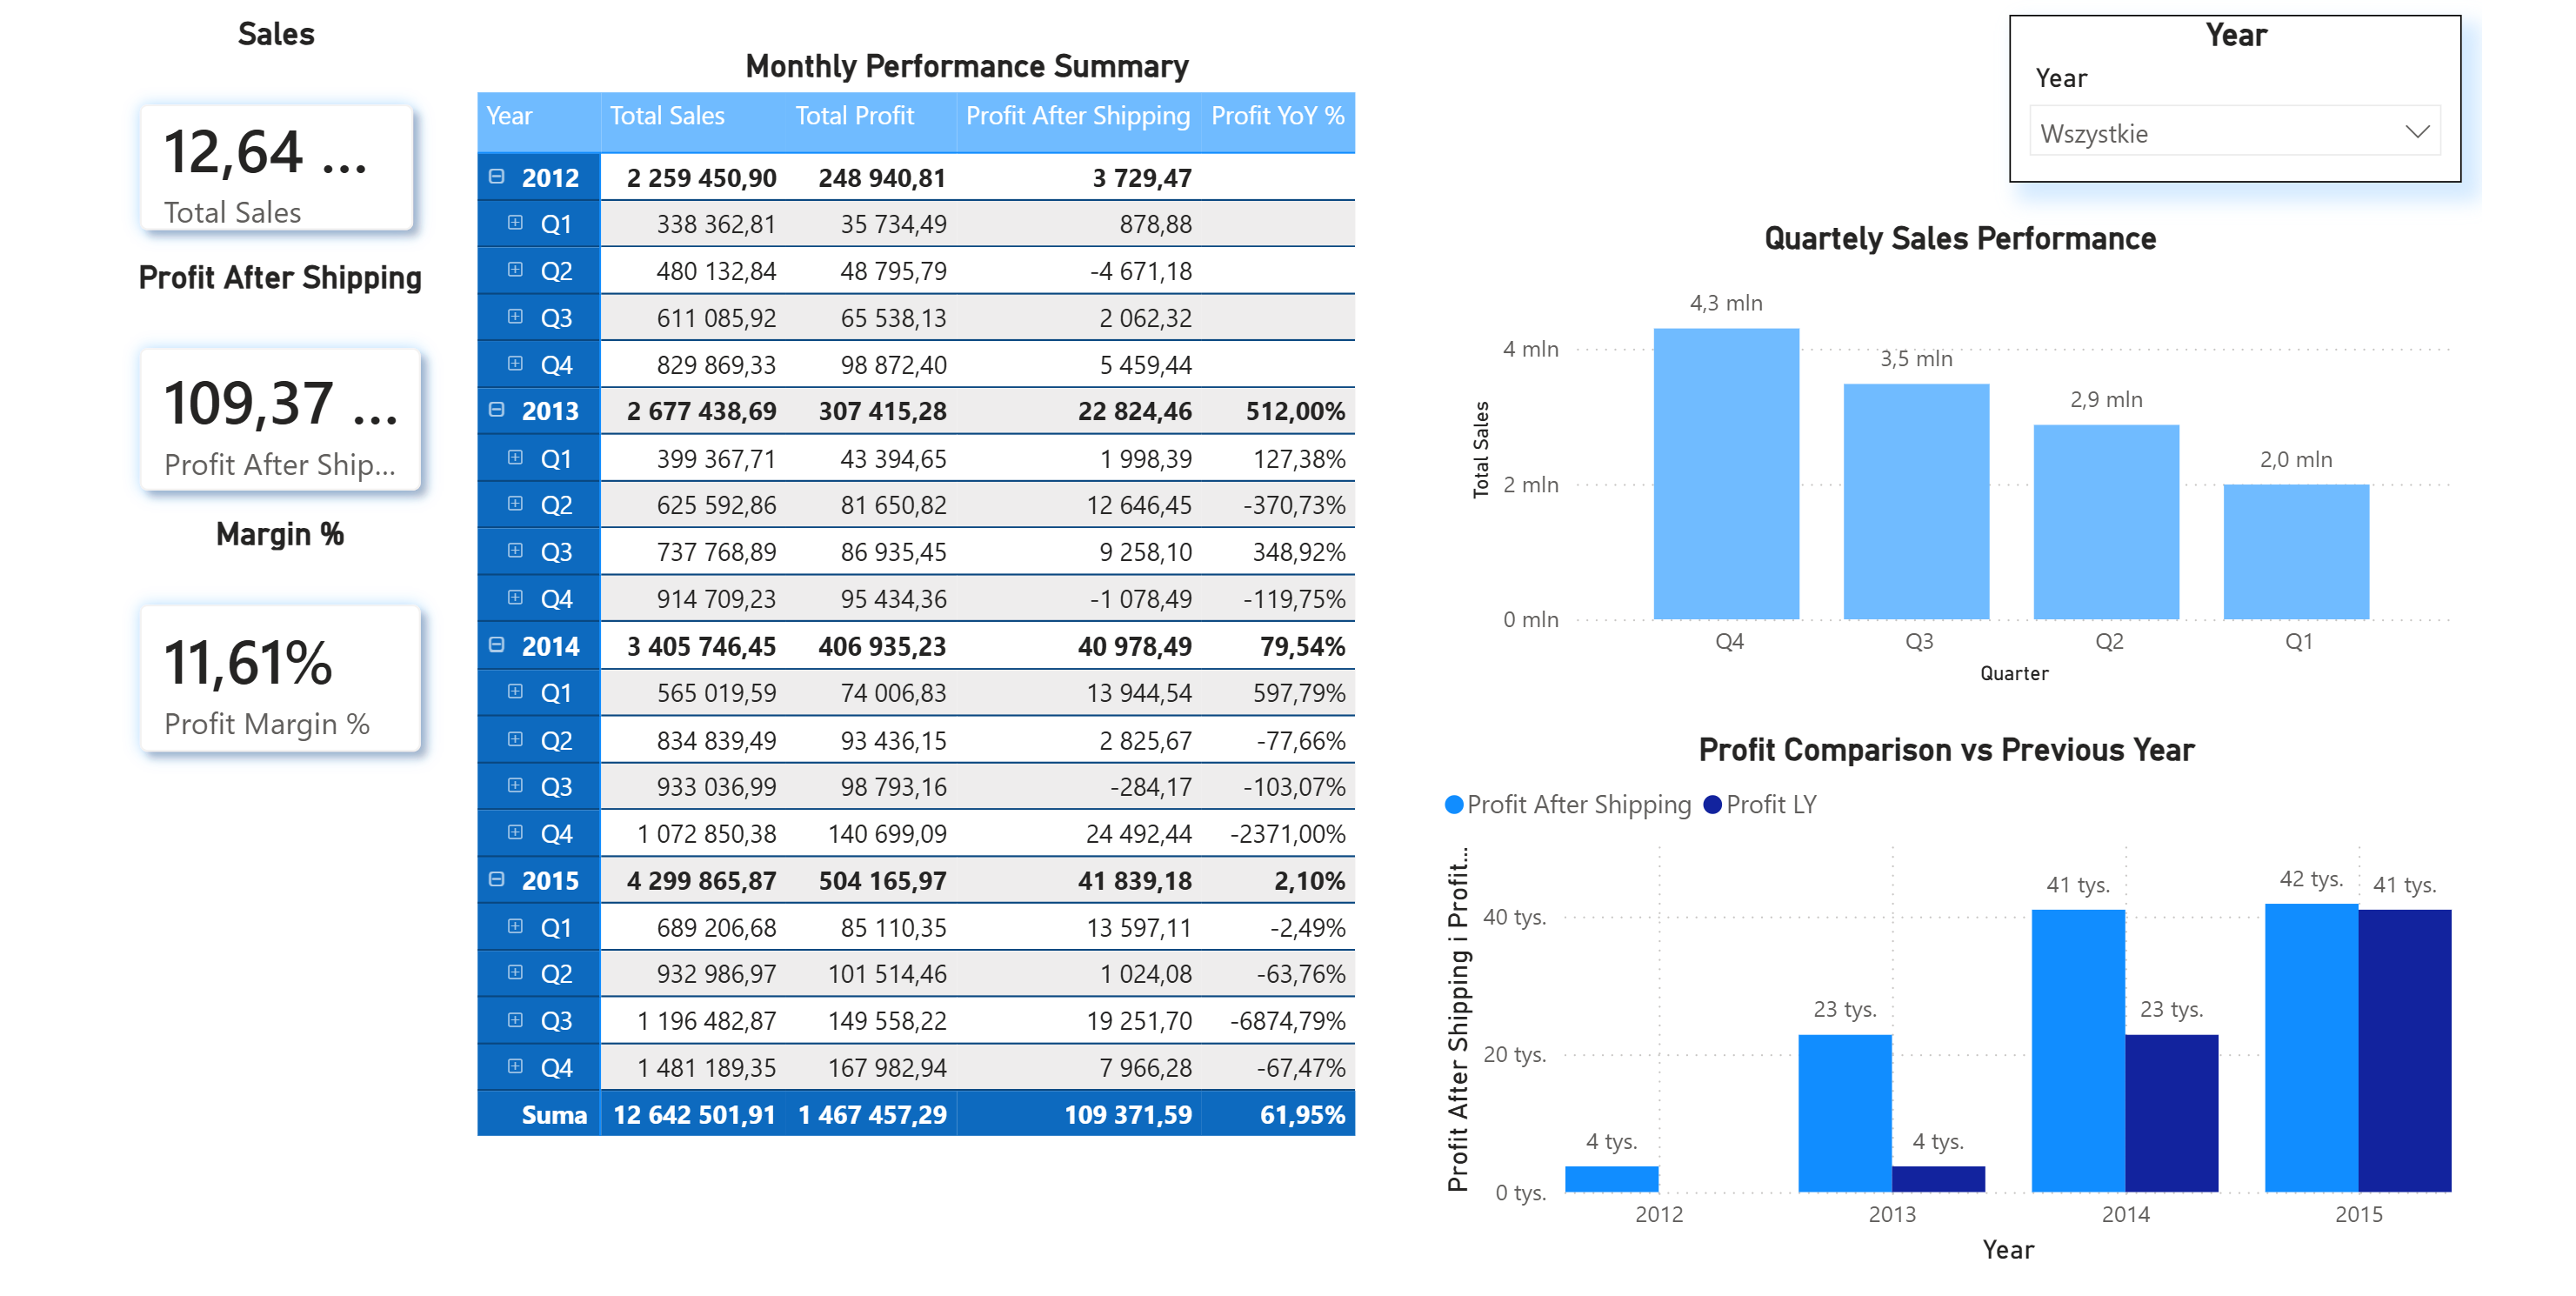

The page's visual inventory and layout, read from the dashboard file:
{"tool":"powerbi","page":{"name":"Monthly Analysis","canvas":[1280,720],"ordinal":1},"visuals":[{"type":"pivotTable","title":"Monthly Performance Summary","fields":{"Rows":["DimDate.Year","DimDate.Quarter","DimDate.Month Name"],"Values":["Measures (2).Total Sales","Measures (2).Total Profit","Measures (2).Profit After Shipping","Measures (2).Profit YoY %"]},"box":[204.5,31.6,533.8,688.9],"z":0},{"type":"clusteredColumnChart","title":"Quartely Sales Performance","fields":{"Category":["DimDate.Quarter"],"Y":["Measures (2).Total Sales"]},"box":[735.5,123.5,533.8,252.5],"z":1000},{"type":"clusteredColumnChart","title":"Profit Comparison vs Previous Year","fields":{"Category":["DimDate.Year"],"Y":["Measures (2).Profit After Shipping","Measures (2).Profit LY"]},"box":[720.4,396.6,548.9,289.5],"z":2000},{"type":"slicer","title":"Year","fields":{"Values":["DimDate.Year"]},"box":[1027.8,13.8,241.4,89.7],"z":3000},{"type":"cardVisual","title":"Sales","fields":{"Data":["Measures (2).Total Sales"]},"box":[0,13.7,204.5,144.1],"z":3001},{"type":"cardVisual","title":"Profit After Shipping","fields":{"Data":["Measures (2).Profit After Shipping"]},"box":[0,144.1,208.6,153.7],"z":3002},{"type":"cardVisual","title":"Margin %","fields":{"Data":["Measures (2).Profit Margin %"]},"box":[0,281.3,208.6,155.1],"z":3003}]}

Visuals, with their boxes on the page's 1280x720 design canvas (x1, y1, x2, y2). These are canvas units, not pixel positions in the 2576x1296 screenshot, which may show the page scaled, cropped or inside an application window:
"Monthly Performance Summary" pivotTable: 204/32/738/720
"Quartely Sales Performance" clusteredColumnChart: 736/124/1269/376
"Profit Comparison vs Previous Year" clusteredColumnChart: 720/397/1269/686
"Year" slicer: 1028/14/1269/104
"Sales" cardVisual: 0/14/204/158
"Profit After Shipping" cardVisual: 0/144/209/298
"Margin %" cardVisual: 0/281/209/436
